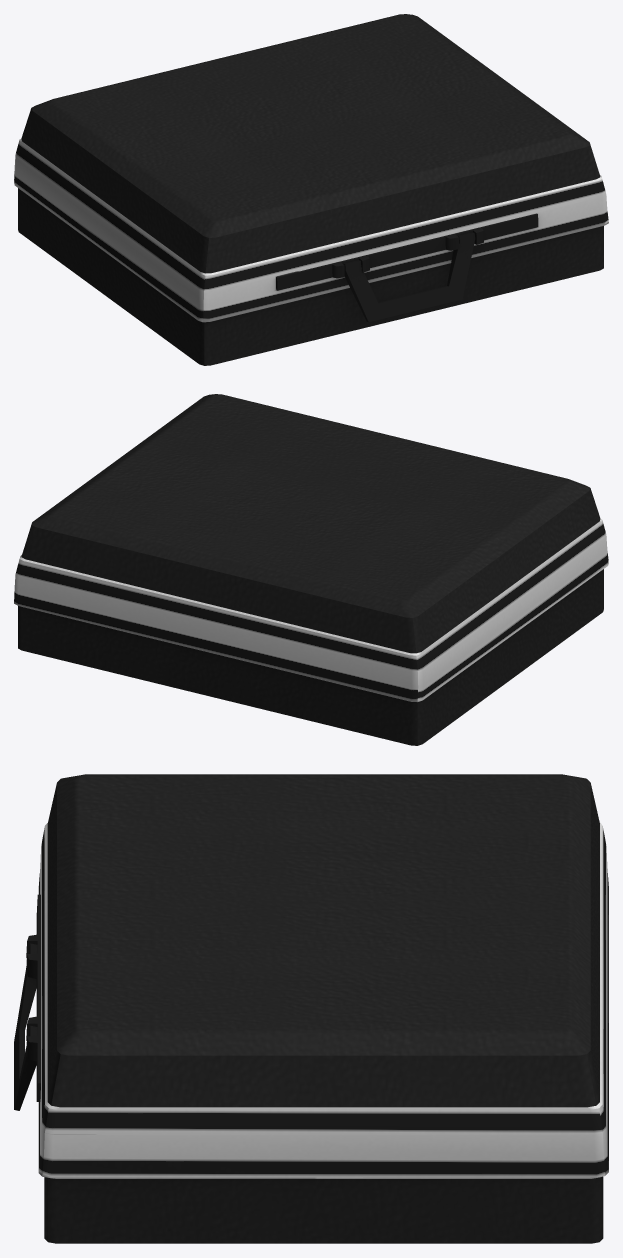
Rendered from briefcaseBlack.fbx.
The picture shows the model from 3 angles, top to bottom: view 1: azimuth 30°, elevation 25°; view 2: azimuth 150°, elevation 25°; view 3: azimuth 270°, elevation 25°; orthographic projection. The views are drawn at different scales.
Visible parts, largest first — view 1: pCube56; view 2: pCube56; view 3: pCube56.
Part boxes in pixels (box(x1,y1,x2,y2)): pCube56: box(14, 14, 608, 365); pCube56: box(14, 394, 608, 745); pCube56: box(14, 774, 608, 1243).
Size of the model in its own units: 0.8502 by 0.2606 by 0.7215.
1 material, 1 textured.
